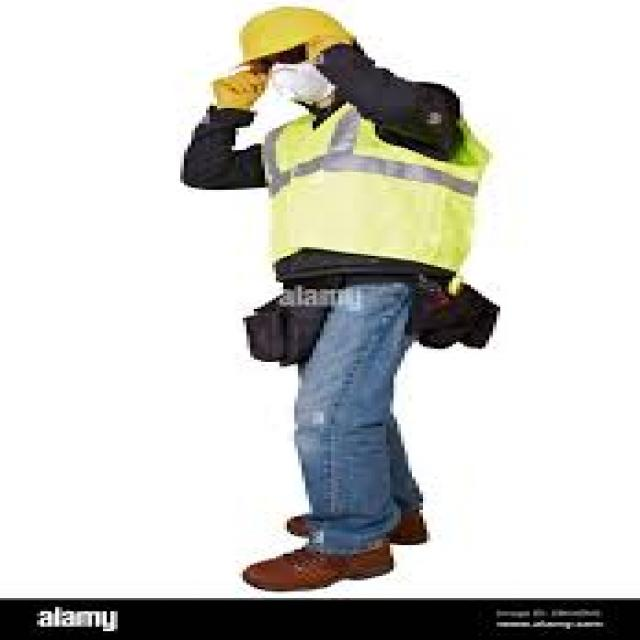Reflective-Jacket: (250, 86, 504, 280)
Safety-Helmet: (228, 2, 364, 68)
